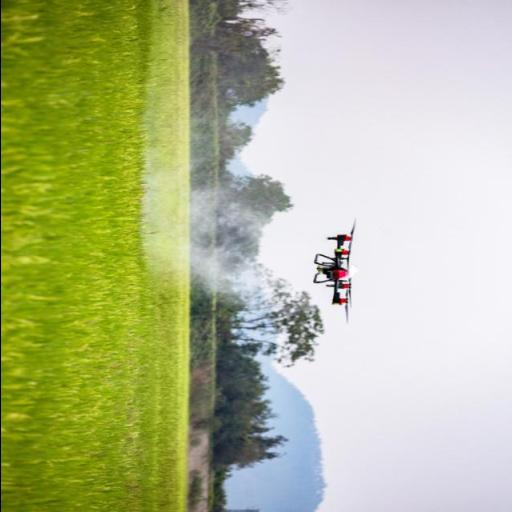uav: (296, 218, 369, 322)
